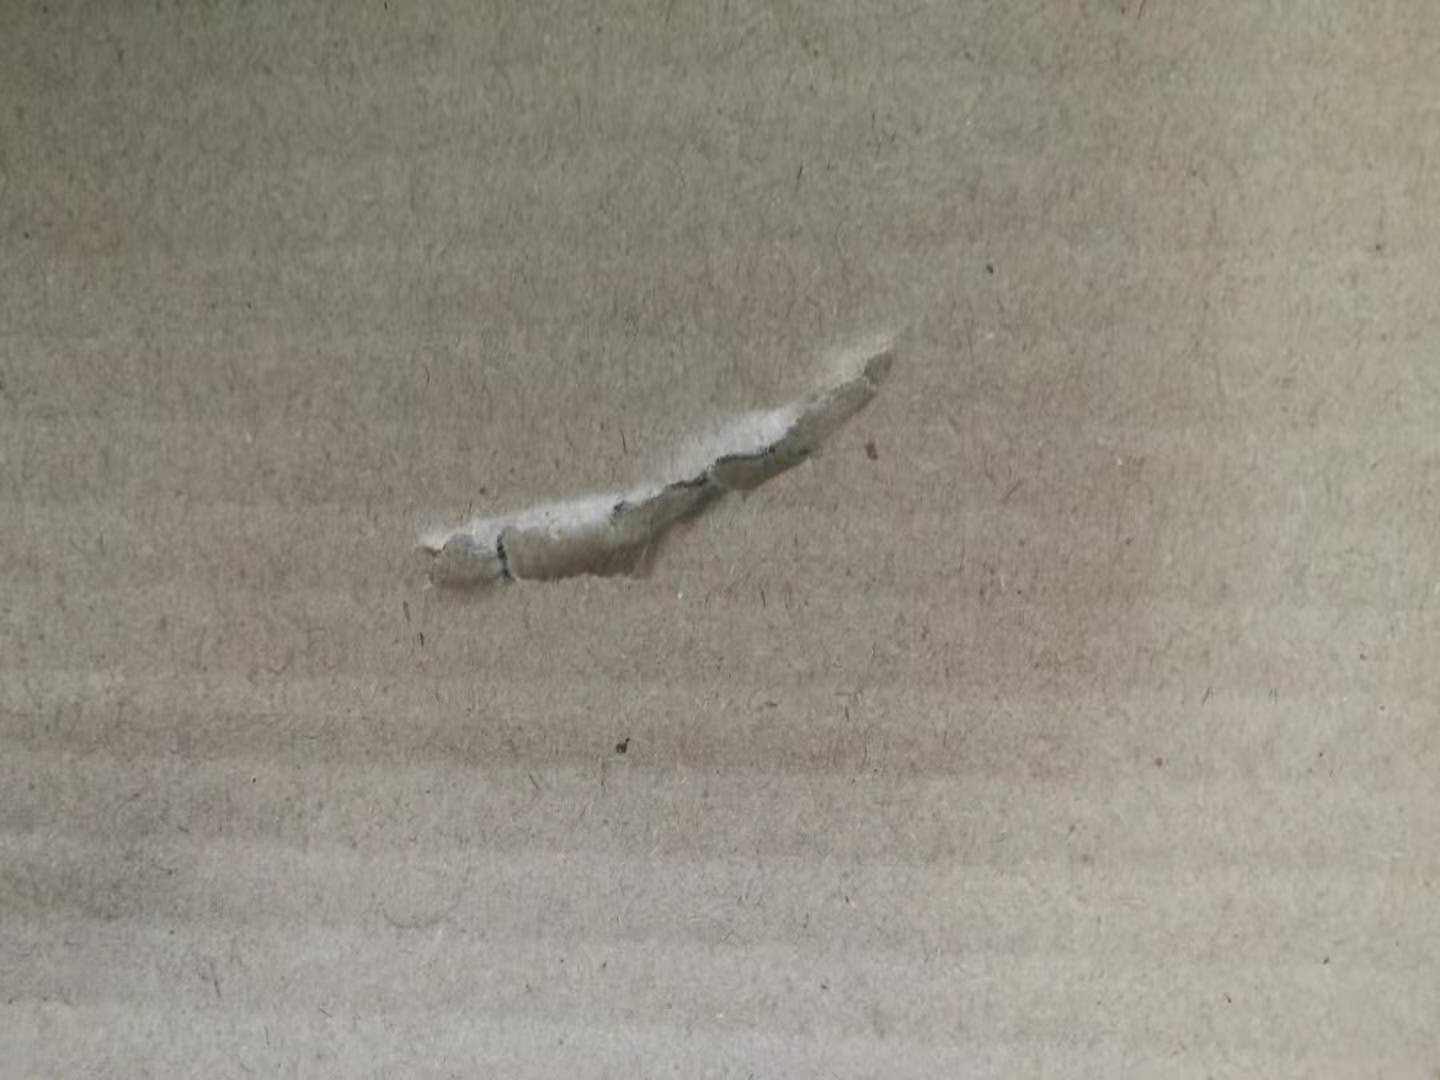defect: (380, 307, 956, 625)
